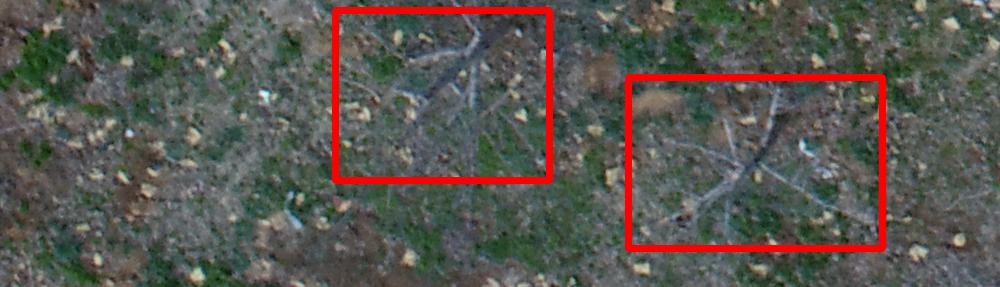apple: (628, 77, 882, 248), (335, 10, 549, 180)
